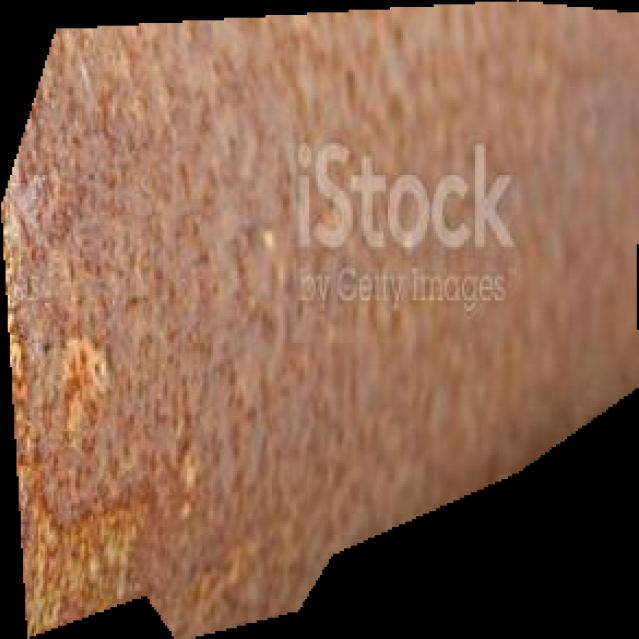Pitting Corrosion: (0, 0, 639, 639)
